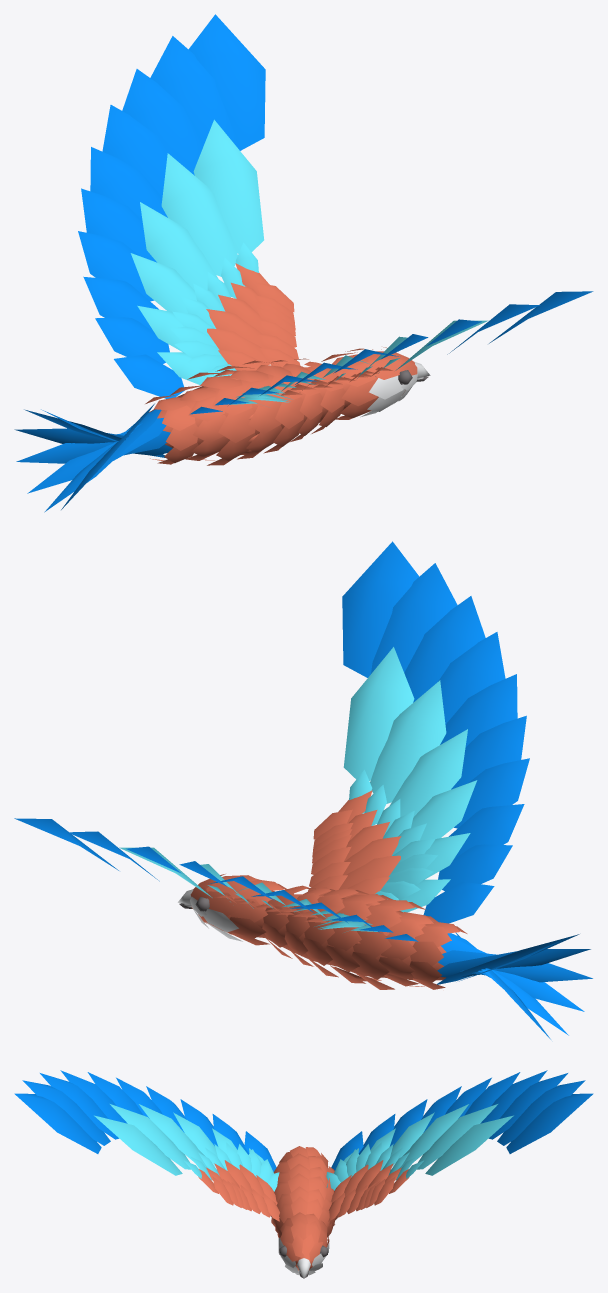
File: bird_2.glb
The picture shows the model from 3 angles, top to bottom: view 1: azimuth 30°, elevation 25°; view 2: azimuth 150°, elevation 25°; view 3: azimuth 270°, elevation 25°; orthographic projection. The views are drawn at different scales.
Visible parts, largest first — view 1: Parrot.3; view 2: Parrot.3; view 3: Parrot.3.
Part boxes in pixels (x1,y1,x2,y2): Parrot.3: (14, 14, 593, 512); Parrot.3: (14, 541, 592, 1039); Parrot.3: (14, 1070, 593, 1278).
Size of the model in its own units: 220 by 146 by 371.
1 material, 1 textured.
